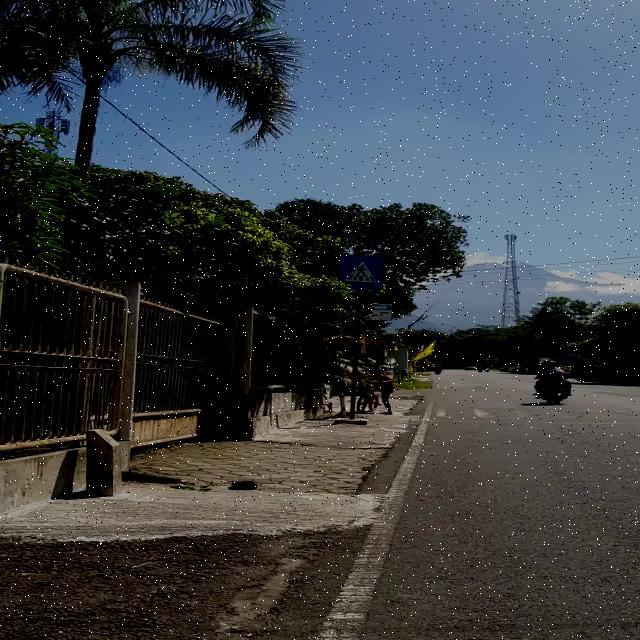Perintah Jalur Penyebrangan: (340, 254, 385, 290)
